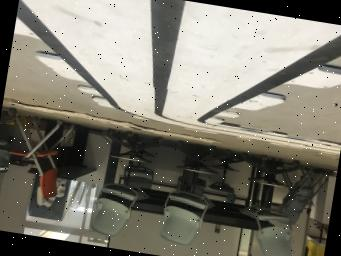street: (159, 2, 340, 125), (159, 2, 340, 125), (159, 2, 340, 125), (21, 0, 158, 119), (21, 0, 158, 119), (21, 0, 158, 119), (197, 35, 341, 122), (197, 35, 341, 122), (197, 35, 341, 122), (16, 0, 123, 110), (16, 0, 123, 110), (16, 0, 123, 110), (150, 0, 184, 117), (150, 0, 184, 117), (150, 0, 184, 117)
